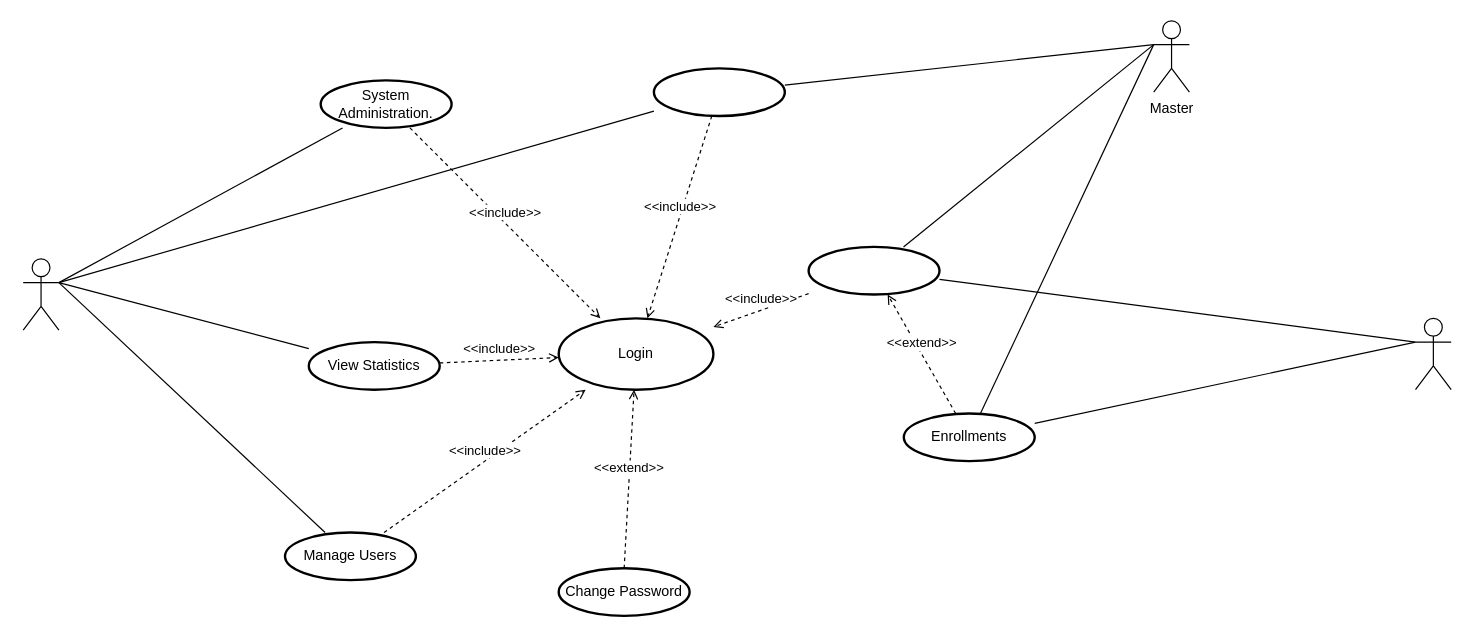
Some shapes in this 1472 by 638 pixel diagram are drawn without their labels. Here are the shapes that lost their labels. From the top down, the box of each, then its label:
(652, 67, 785, 117): Manage Dojos
(807, 245, 940, 295): Manage Students
(22, 258, 59, 330): Admin
(1414, 317, 1451, 390): Staff
